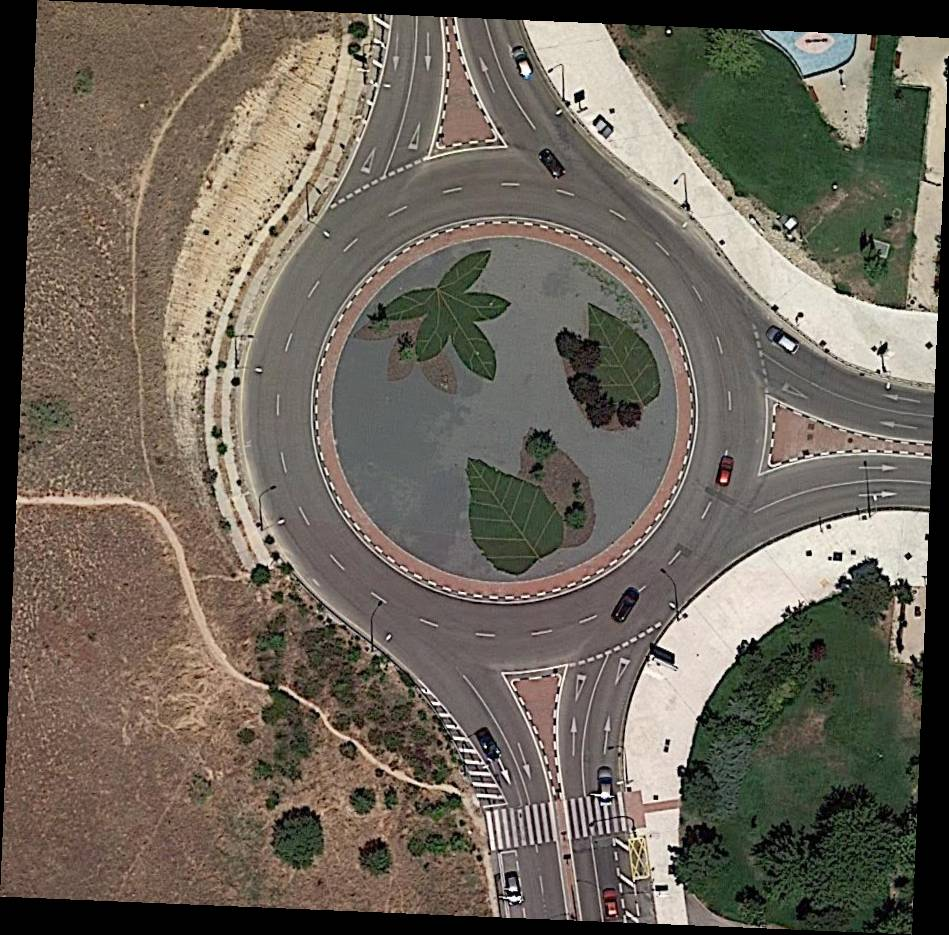roundabout: (234, 162, 780, 671)
small vehicle: (763, 322, 801, 357), (611, 586, 642, 624), (474, 725, 504, 762), (537, 149, 565, 180), (515, 48, 536, 80), (604, 889, 622, 922), (718, 456, 735, 486), (598, 766, 612, 802), (505, 876, 522, 905)
